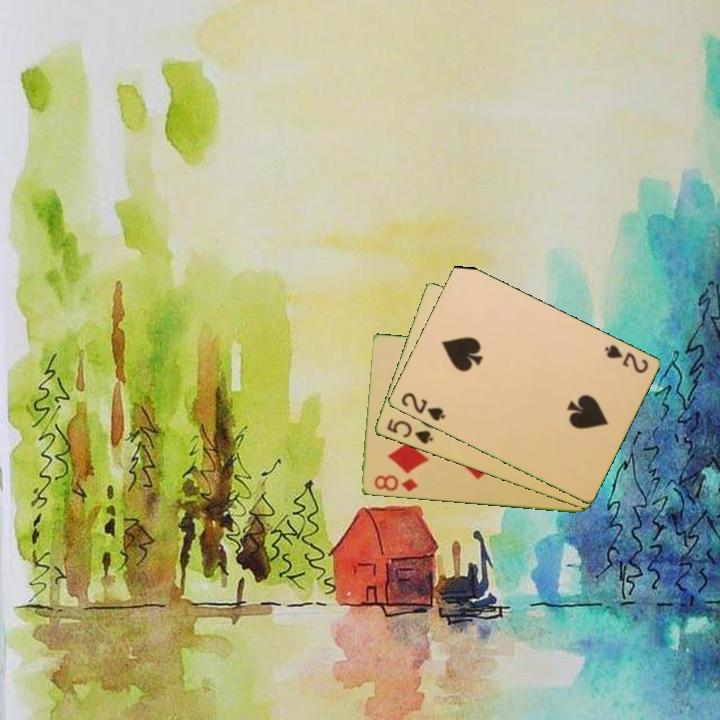2s: (397, 389, 448, 424), (601, 341, 651, 376)
5s: (383, 415, 436, 447)
8d: (370, 472, 421, 495)
